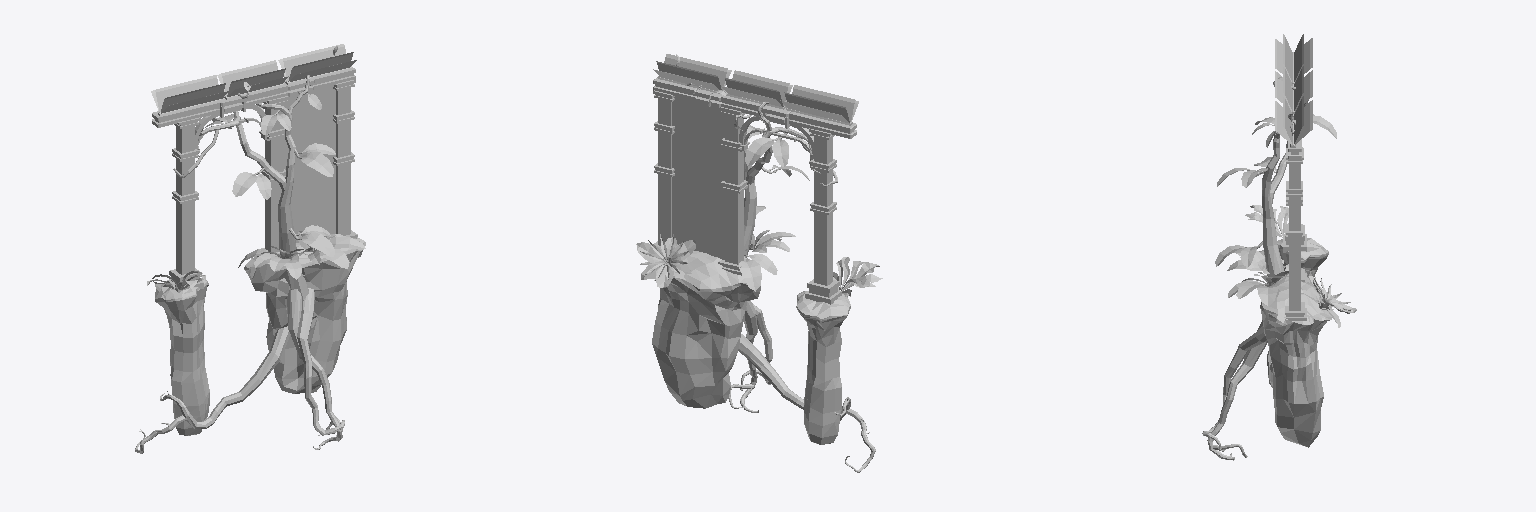
The model's file is spikesLineWall.obj.
The picture shows the model from 3 angles: view 1: azimuth 30°, elevation 25°; view 2: azimuth 150°, elevation 25°; view 3: azimuth 270°, elevation 25°; orthographic projection.
Parts seen in each view (by area): view 1: spikesLineWall PlatfprmsAndSpikes; view 2: spikesLineWall PlatfprmsAndSpikes; view 3: spikesLineWall PlatfprmsAndSpikes.
Boxes of the visible parts, x1=… form: spikesLineWall PlatfprmsAndSpikes: x1=135, y1=44, x2=365, y2=453; spikesLineWall PlatfprmsAndSpikes: x1=636, y1=54, x2=882, y2=472; spikesLineWall PlatfprmsAndSpikes: x1=1202, y1=34, x2=1356, y2=460.
Bounding box in the file's own units: 21.37 × 33.66 × 12.82.